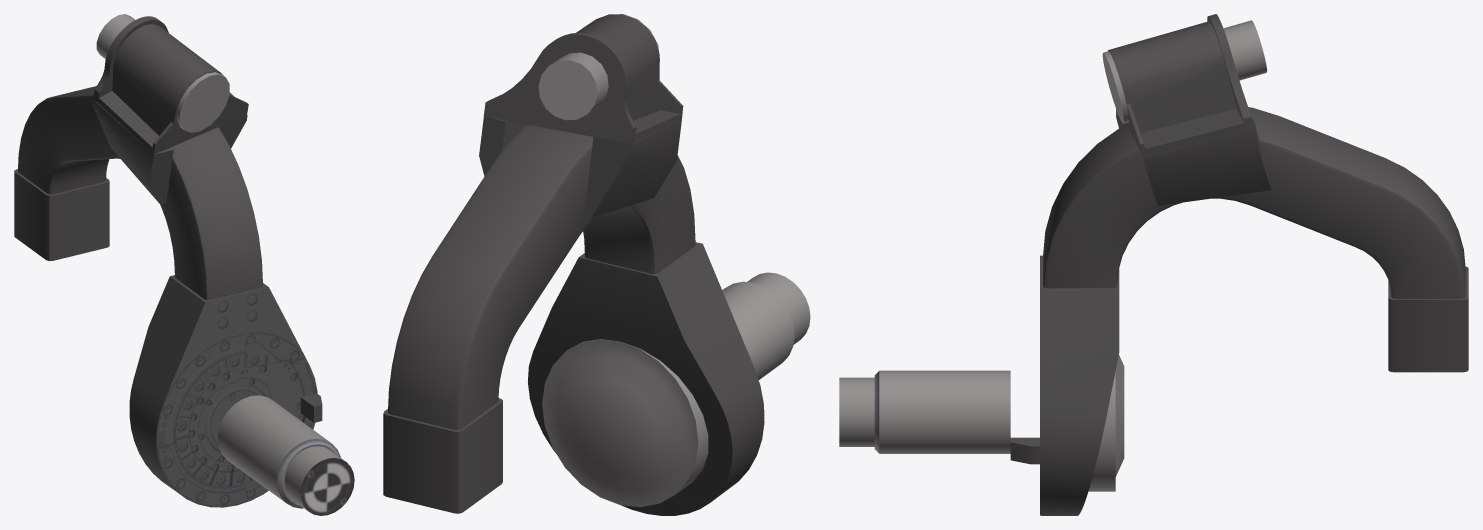
The model's file is amort_right_front.glb.
3 renders of one model, left to right at view 1: azimuth 30°, elevation 25°; view 2: azimuth 150°, elevation 25°; view 3: azimuth 270°, elevation 25°, orthographic. The views are drawn at different scales.
Visible parts, largest first — view 1: suspension.006; view 2: suspension.006; view 3: suspension.006.
Part boxes in pixels (x1,y1,x2,y2): suspension.006: (14, 14, 354, 515); suspension.006: (383, 14, 810, 515); suspension.006: (839, 14, 1468, 515).
Bounding box in the file's own units: 0.2085 × 0.5324 × 0.6335.
4 materials, 2 textured.
